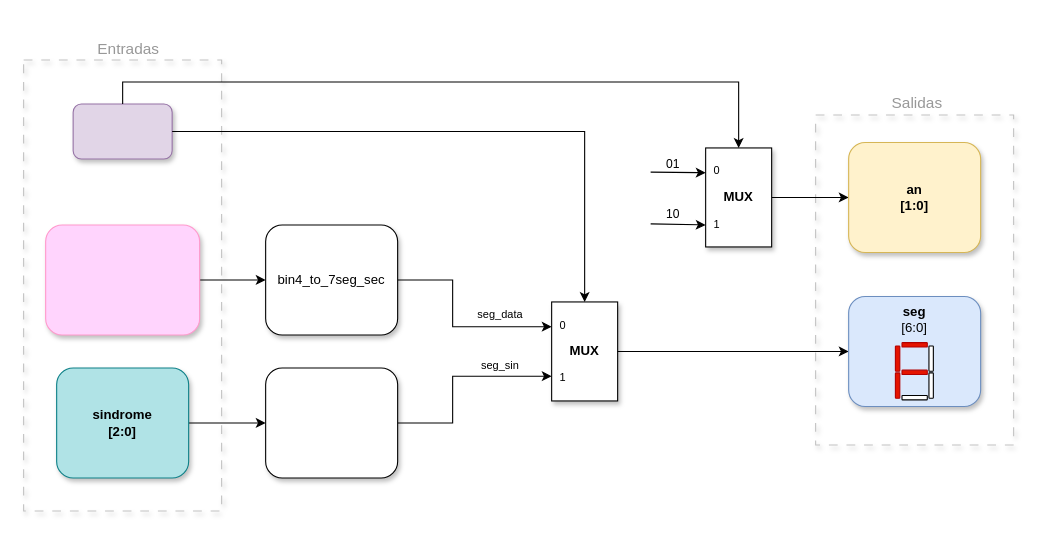
This 1040x538 diagram has some shape labels left out. The shapes that lost their labels are listed below. From the top down, each one's centre as x and y in pixels, then its label:
At point 123,132: "btn".
At point 123,281: "data_corrected [3:0] {i3_corrected, i2_corrected, i1_corrected, i0_corrected}".
At point 332,424: "sindrome_to_7seg".
